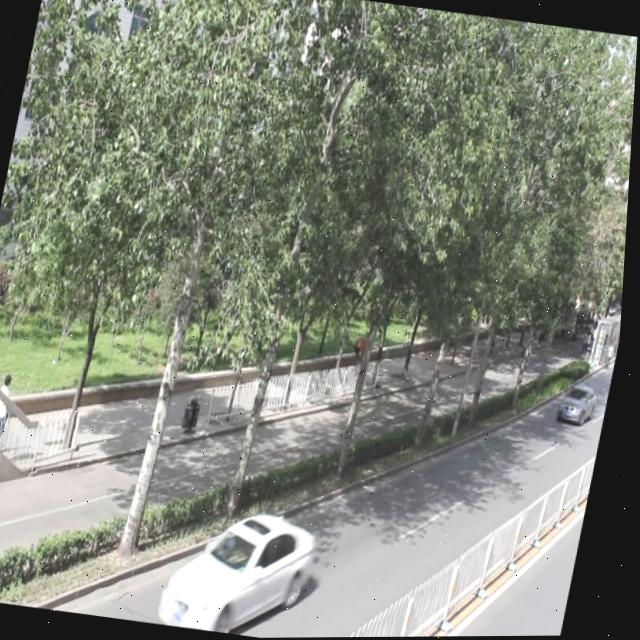car: (160, 502, 326, 639), (560, 382, 603, 426)
